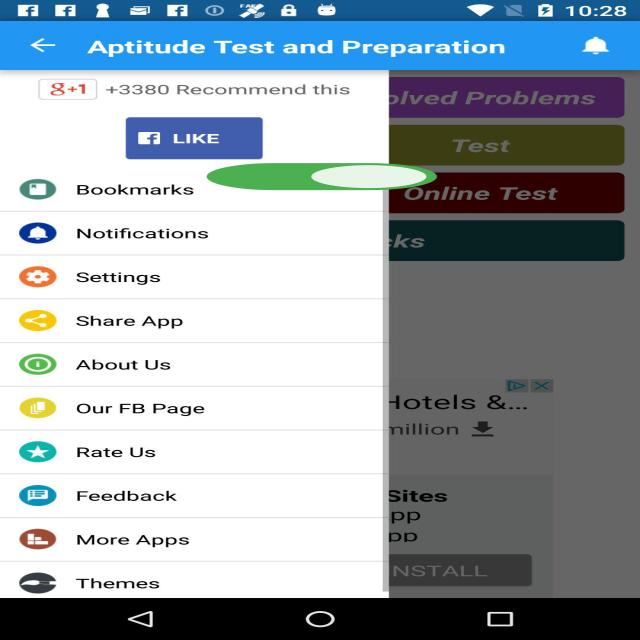social proof: (196, 152, 448, 202)
